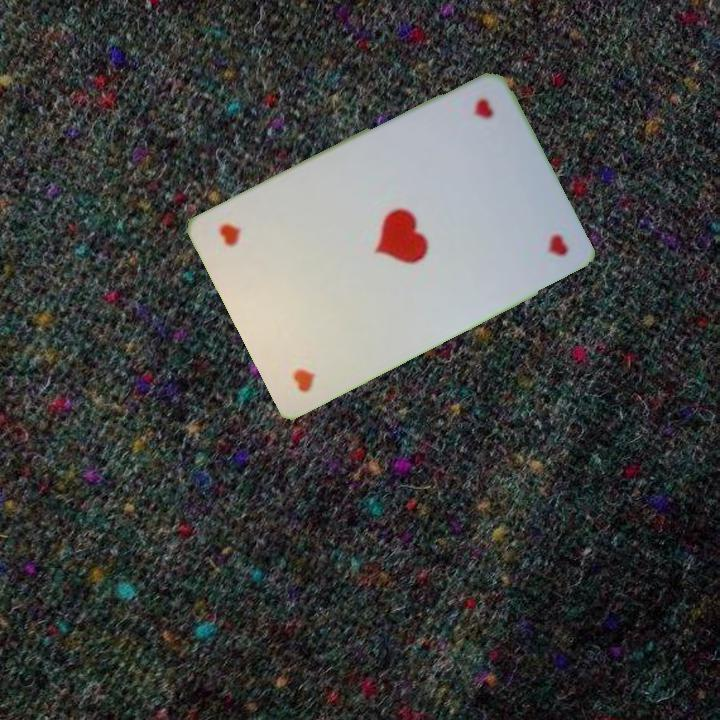h_a.png: (415, 84, 535, 210), (248, 275, 368, 401)
